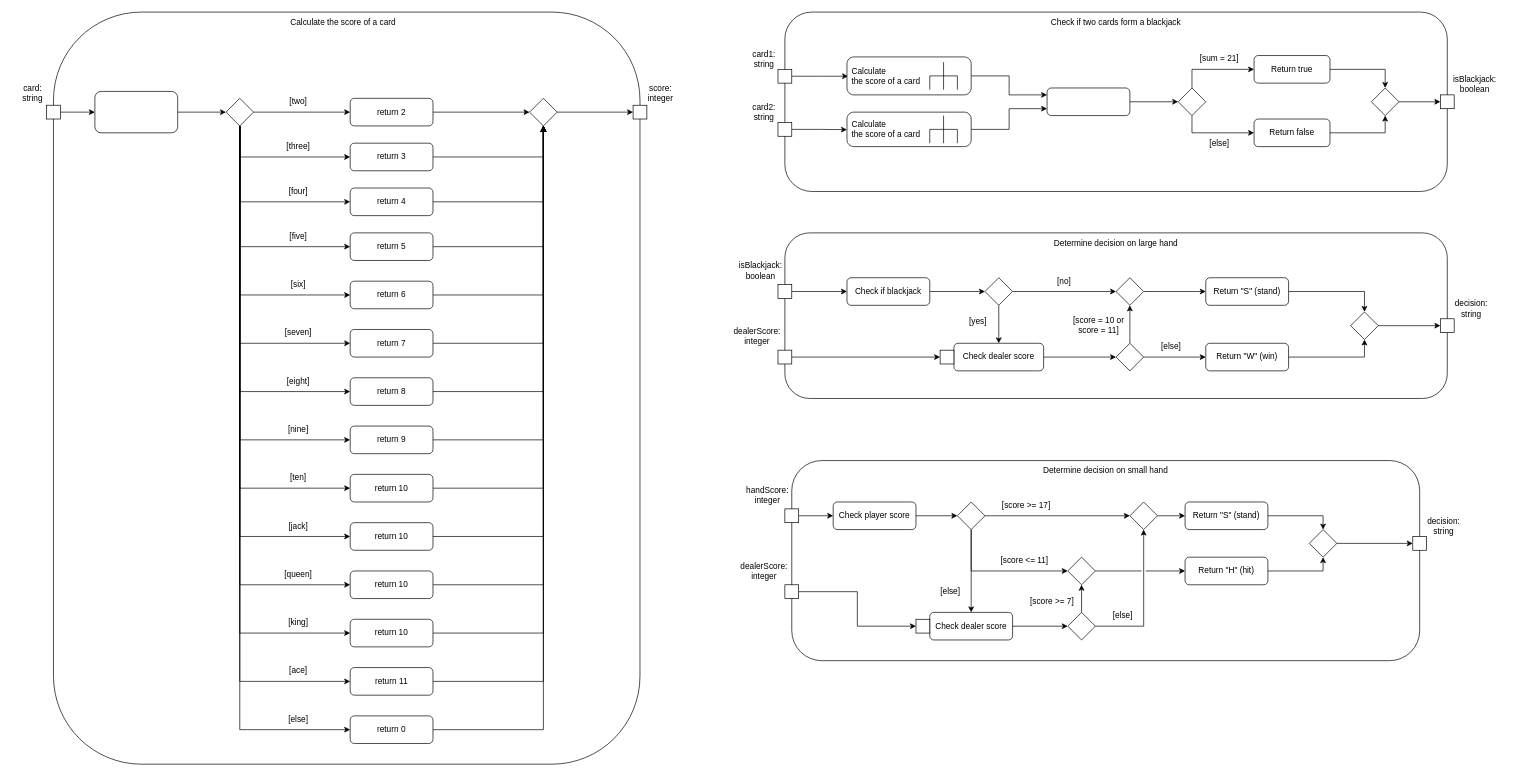
This 1514x776 diagram has some shape labels left out. The shapes that lost their labels are listed below. From the top down, each one's centre as x and y in pixels, then its label:
At point (136, 112): "Check card name".
At point (1088, 101): "Sum".
